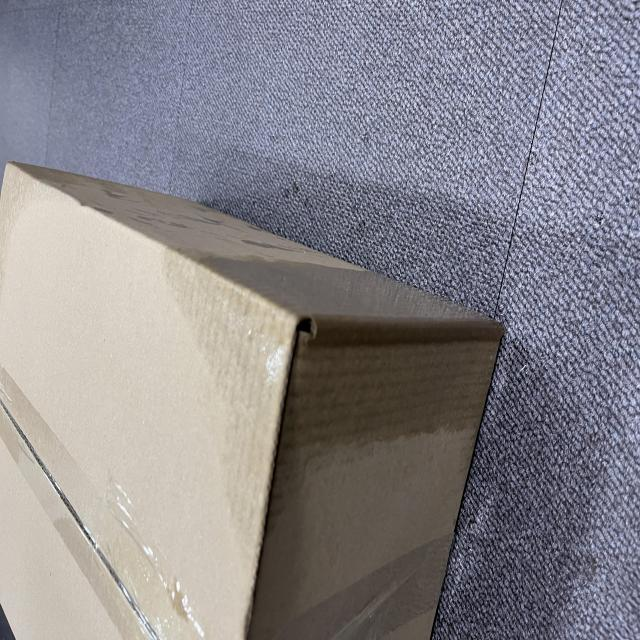wet: (118, 262, 286, 640)
